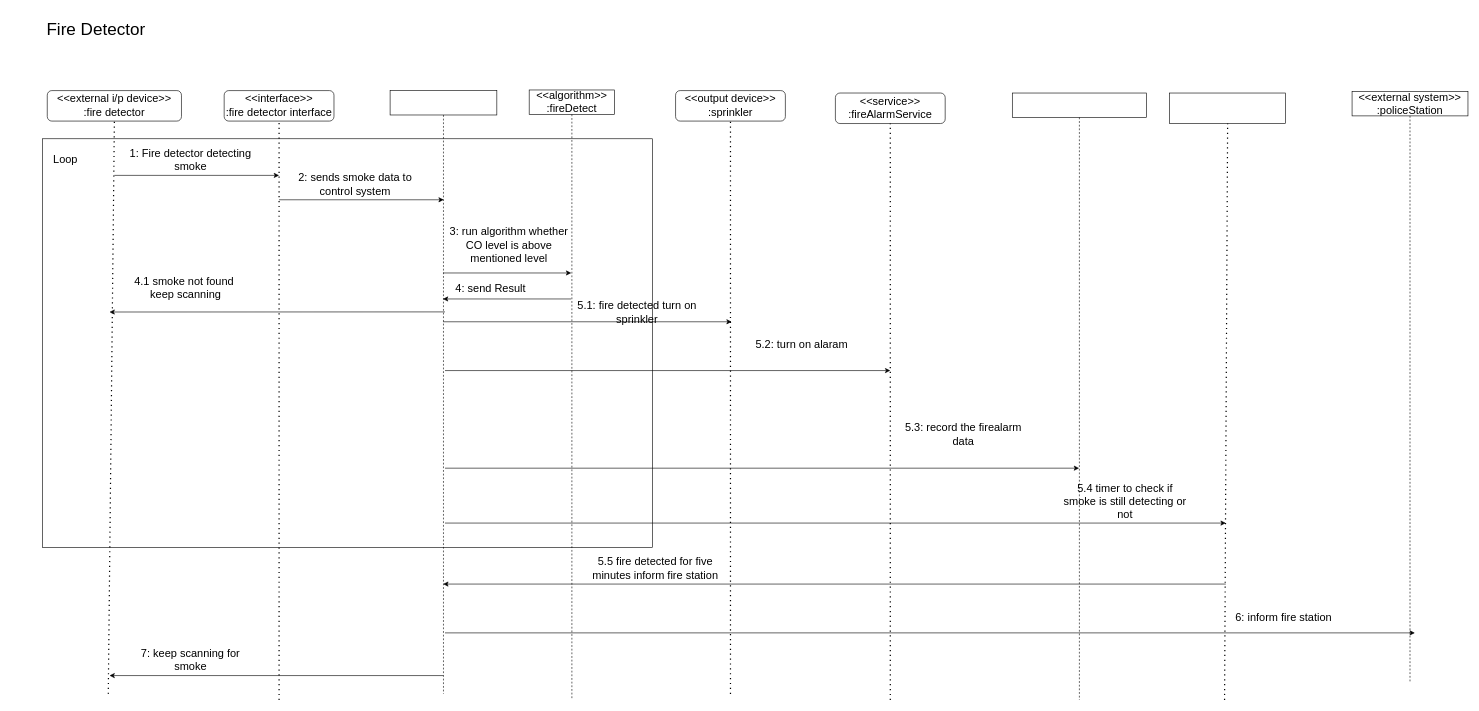
Some shapes in this 1479 by 711 pixel diagram are drawn without their labels. The box of each missing label's shape, as (x1, y1, x2, y2) in pixels:
<<control object>> :smartHomeControl: (389, 90, 497, 694)
<<entity>> :fireAlarmData: (1012, 92, 1146, 700)
<<timer>> :timer: (1169, 92, 1286, 124)
